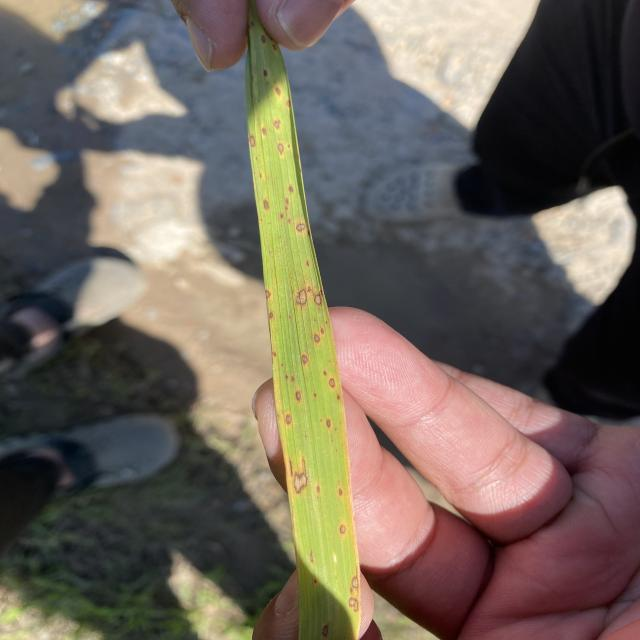Dom nau: (293, 459, 308, 493), (296, 289, 306, 305), (348, 597, 358, 611), (277, 142, 284, 156), (322, 624, 329, 637), (296, 223, 306, 232), (249, 135, 255, 147), (352, 577, 358, 588), (263, 199, 269, 210), (273, 120, 280, 129), (302, 354, 308, 364), (315, 294, 321, 304), (275, 86, 281, 96), (339, 525, 346, 533), (329, 378, 335, 387), (314, 334, 320, 343), (286, 414, 291, 424), (296, 391, 301, 401), (288, 185, 294, 193), (265, 290, 270, 299), (262, 127, 267, 136), (310, 552, 314, 563), (338, 489, 343, 497), (316, 484, 320, 494), (326, 419, 331, 427), (263, 69, 268, 77), (261, 35, 266, 43), (268, 312, 273, 319), (305, 260, 310, 267), (286, 100, 291, 107), (320, 327, 324, 335), (272, 44, 277, 50), (285, 198, 289, 205), (307, 287, 312, 292), (323, 370, 327, 376), (280, 213, 284, 218), (273, 352, 277, 356), (337, 395, 340, 400), (291, 376, 294, 381), (285, 375, 288, 379), (314, 394, 316, 397), (281, 364, 284, 366)
